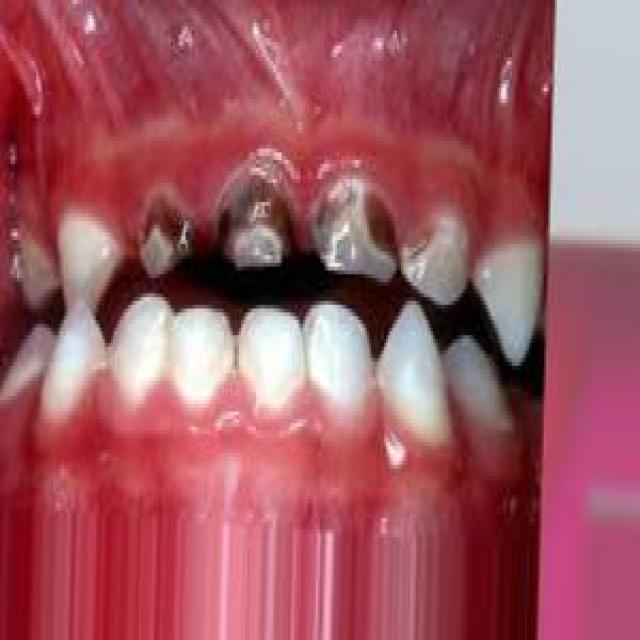caries: (307, 170, 395, 286), (215, 162, 293, 278), (394, 208, 470, 302), (136, 191, 196, 290)
